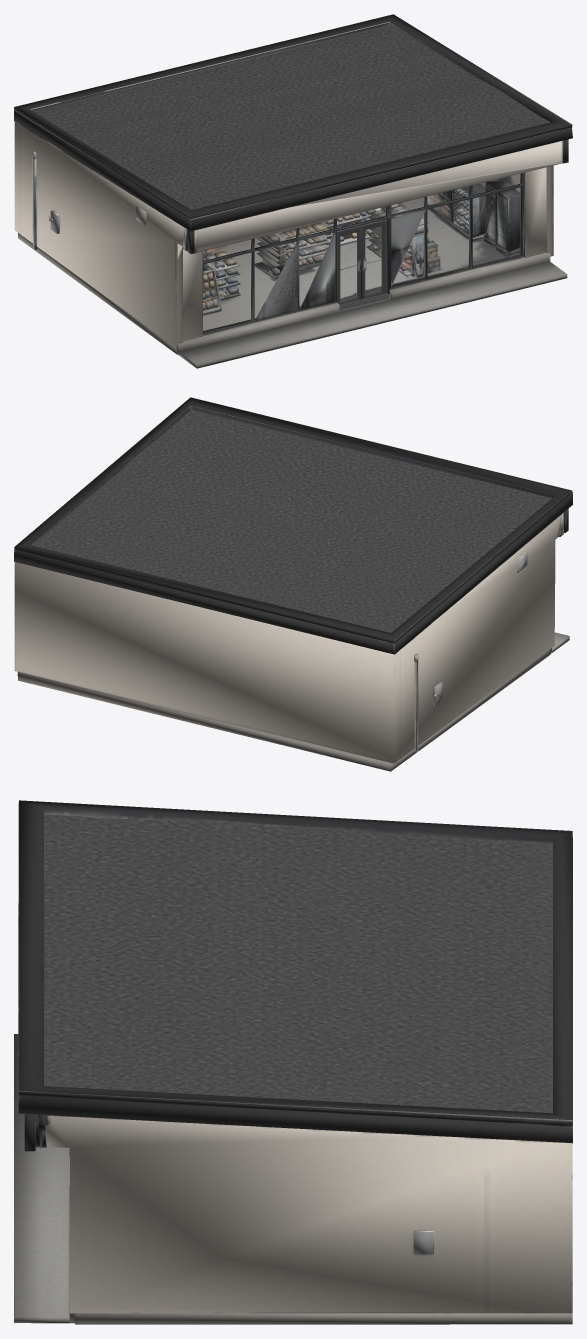
3 views of the same model, one above another, from view 1: azimuth 30°, elevation 25°; view 2: azimuth 150°, elevation 25°; view 3: azimuth 270°, elevation 25° (orthographic). The views are drawn at different scales.
Size of the model in its own units: 0.9561 by 0.3599 by 0.7681.
1 material, 1 textured.
